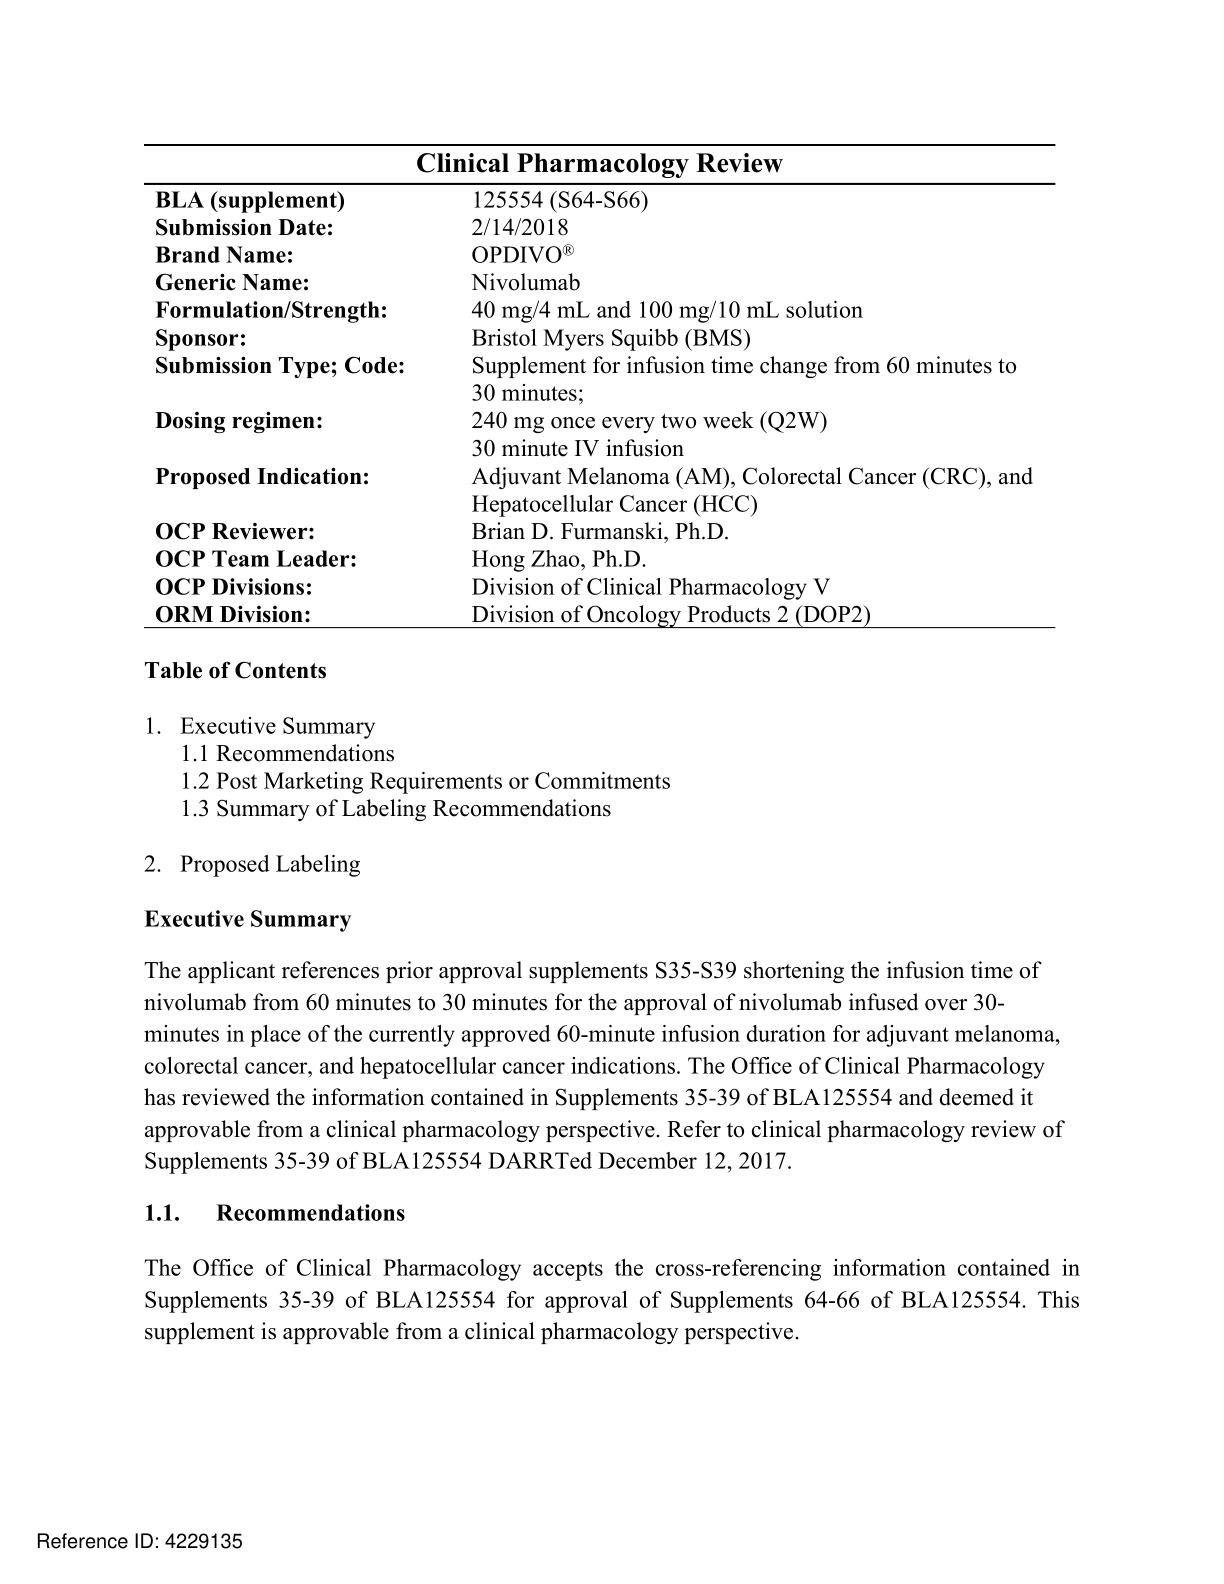partial_lined: (140, 183, 1059, 629)
